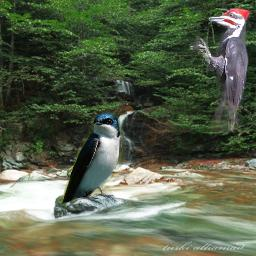Swallow: (62, 111, 124, 207)
Woodpecker: (188, 8, 252, 133)
